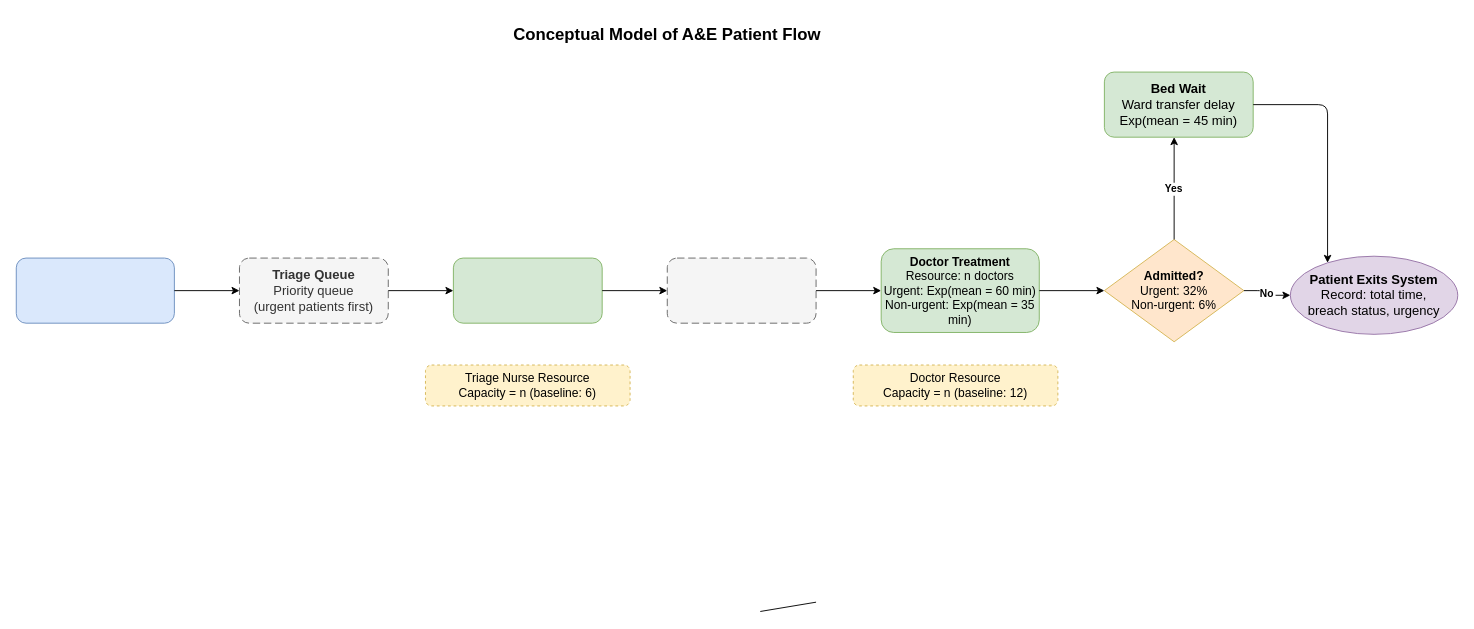
Some shapes in this 1474 by 629 pixel diagram are drawn without their labels. Here are the shapes that lost their labels. From the top down, the box of each, then its label:
(15, 257, 174, 323): Patient Arrival Time-varying Poisson process (from inpatient_arrivals.csv)
(452, 257, 602, 323): Triage Assessment Resource: n nurses Exp(mean = 10 min)
(666, 257, 816, 323): Doctor Queue Priority queue (urgent patients first)
